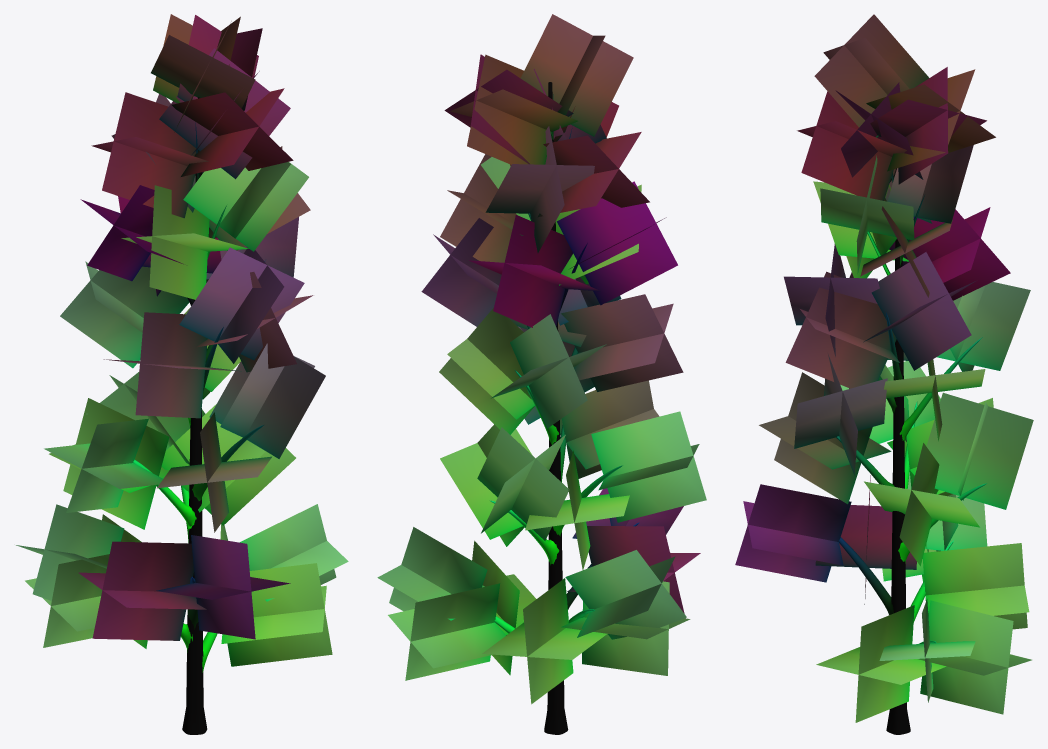
The model's file is URP_P5_Tree_3_LOD_0.fbx.
3 views of the same model, side by side, from view 1: azimuth 30°, elevation 25°; view 2: azimuth 150°, elevation 25°; view 3: azimuth 270°, elevation 25° (orthographic). The views are drawn at different scales.
Parts seen in each view (by area): view 1: Tree_3_LOD_0; view 2: Tree_3_LOD_0; view 3: Tree_3_LOD_0.
Part boxes in pixels (x1,y1,x2,y2): Tree_3_LOD_0: (16, 14, 348, 734); Tree_3_LOD_0: (377, 14, 706, 734); Tree_3_LOD_0: (735, 14, 1033, 734).
Size of the model in its own units: 298 by 671 by 259.
